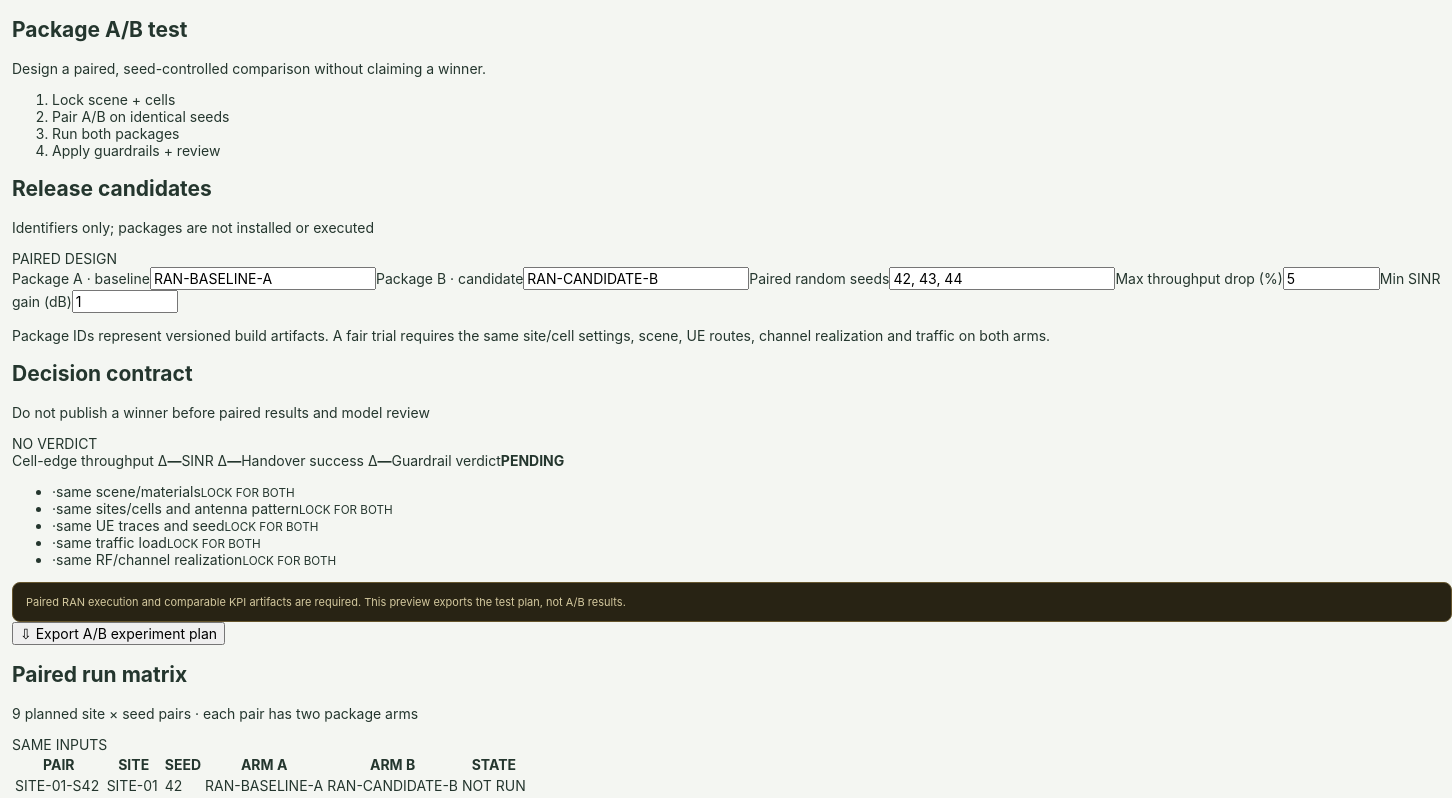
AbPreviewLeaf › shows paired plans without results and persists configuration in the active project
Expected: the row with test id "paired-run" that starts with "SITE-01-S42" is shown, [14,776,527,795]
Replace the text in the field labelled "Package B · candidate" with "candidate-2" at (636, 278), box [523,267,749,290]
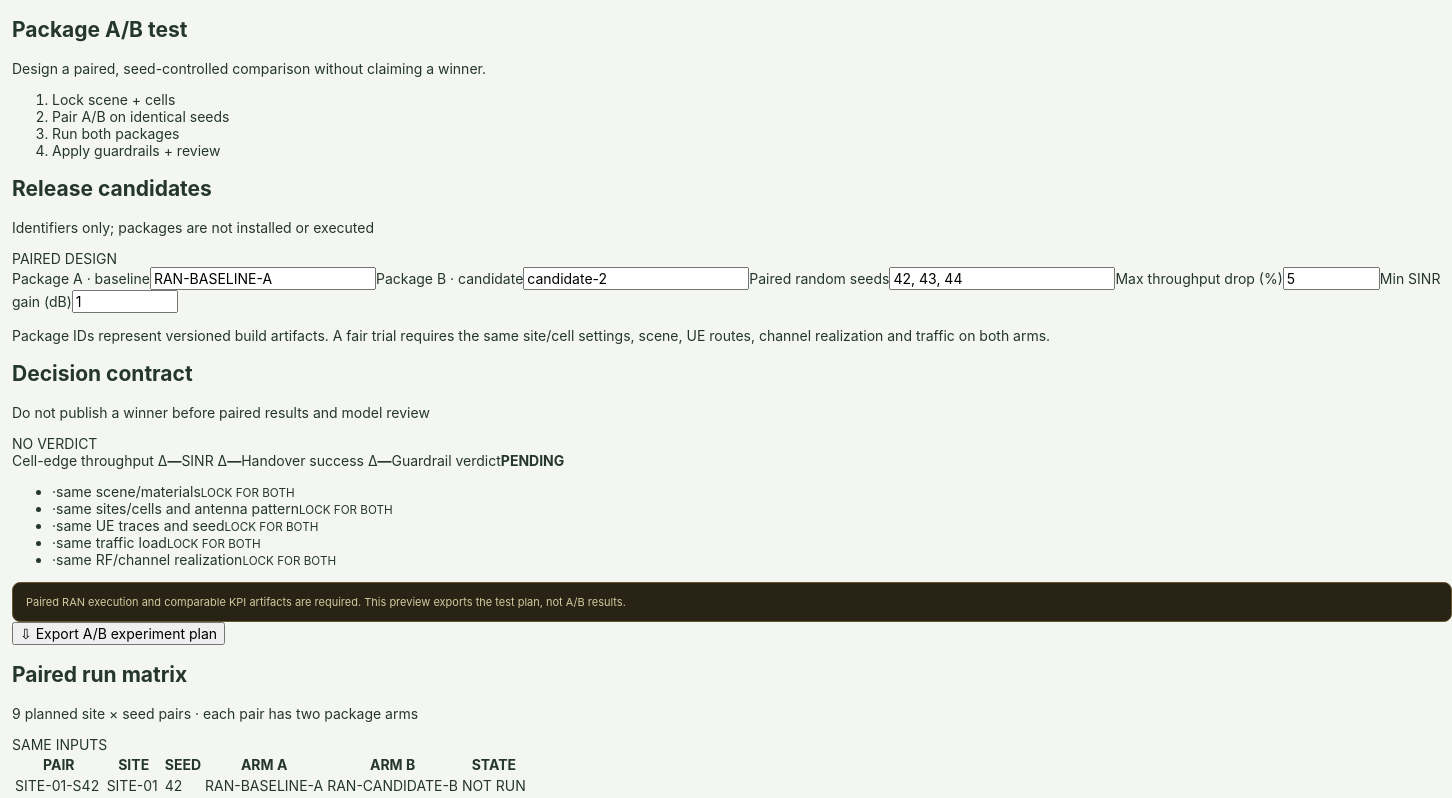
Leave the field labelled "Package B · candidate", box [523,267,749,290]
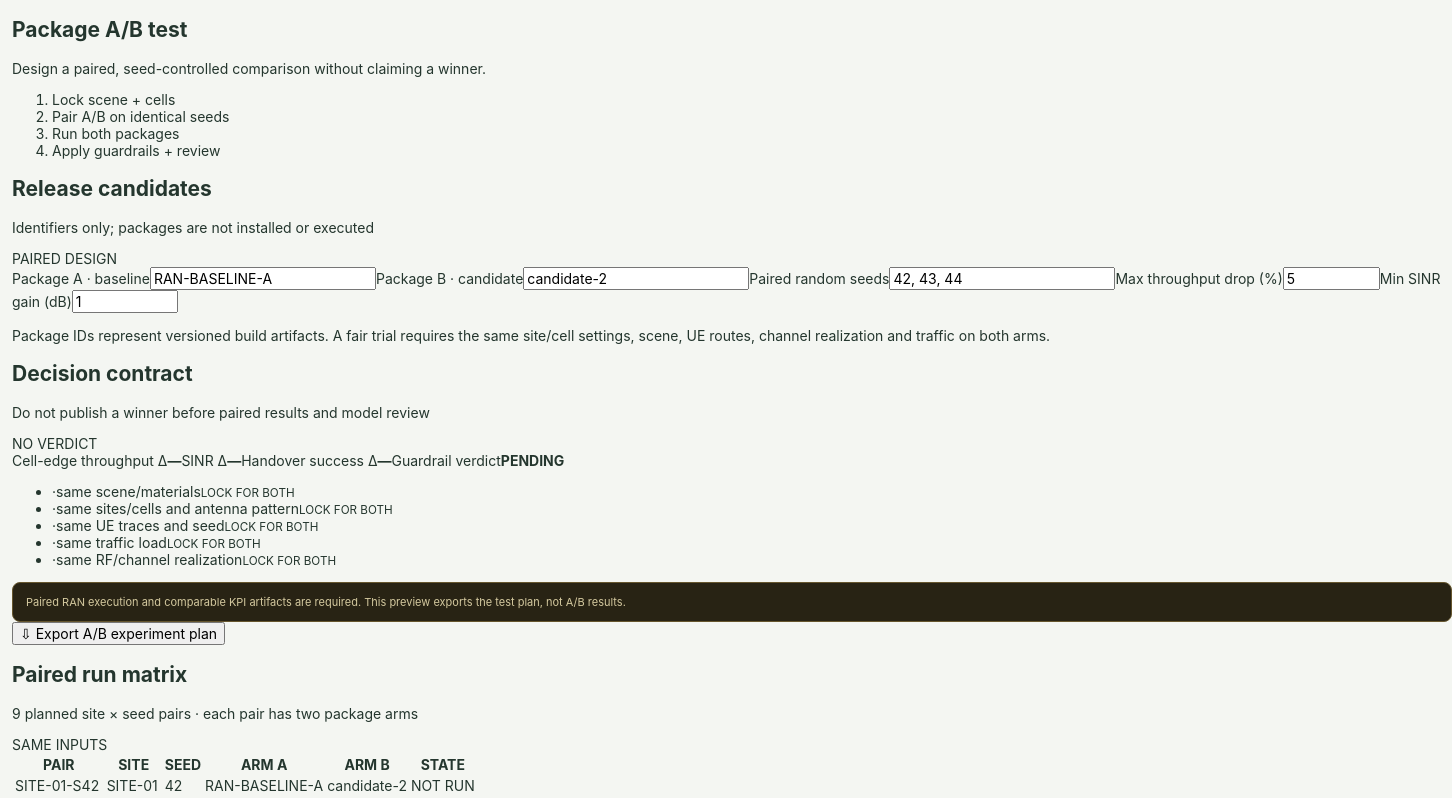
Expected: the cell "candidate-2" in the row of "SITE-01-S42" is shown, [327,777,407,794]
